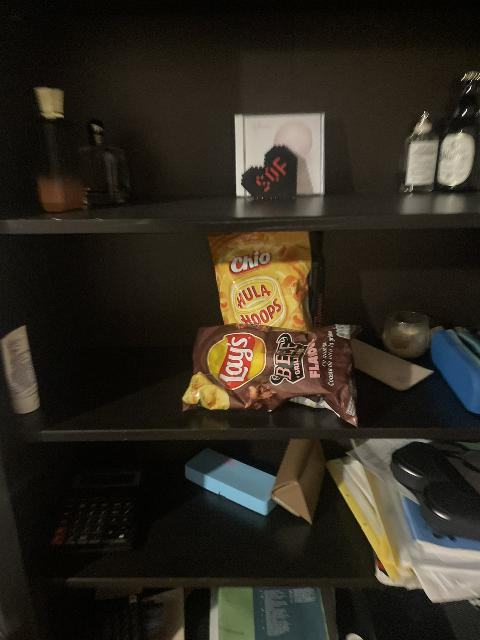Chio Hula Hoops Cheese 70g: (207, 234, 316, 329)
Lays Beef Grilled Ribs 125g: (182, 324, 355, 420)
